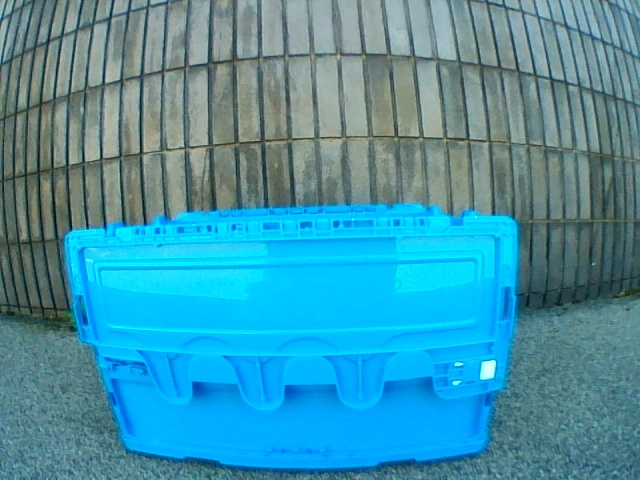blue_box: (64, 204, 518, 469)
